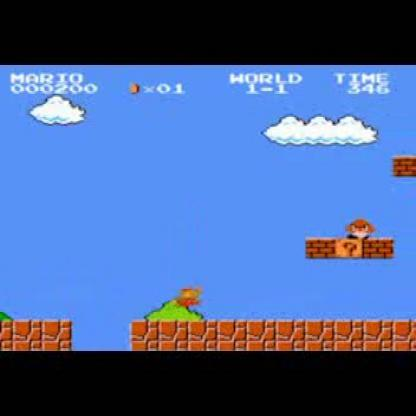Goomba: (346, 215, 376, 240)
Hoyo: (65, 317, 136, 350)
